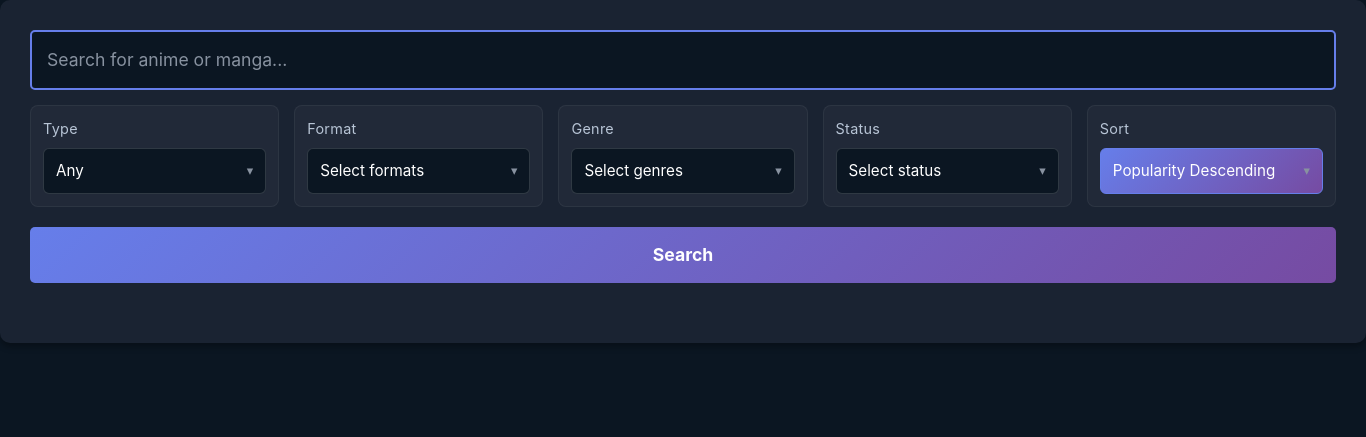
Search Component › Format Filter › opens and closes format dropdown
Click the button with test id "format-filter-button" at (419, 171), box [307, 148, 530, 194]
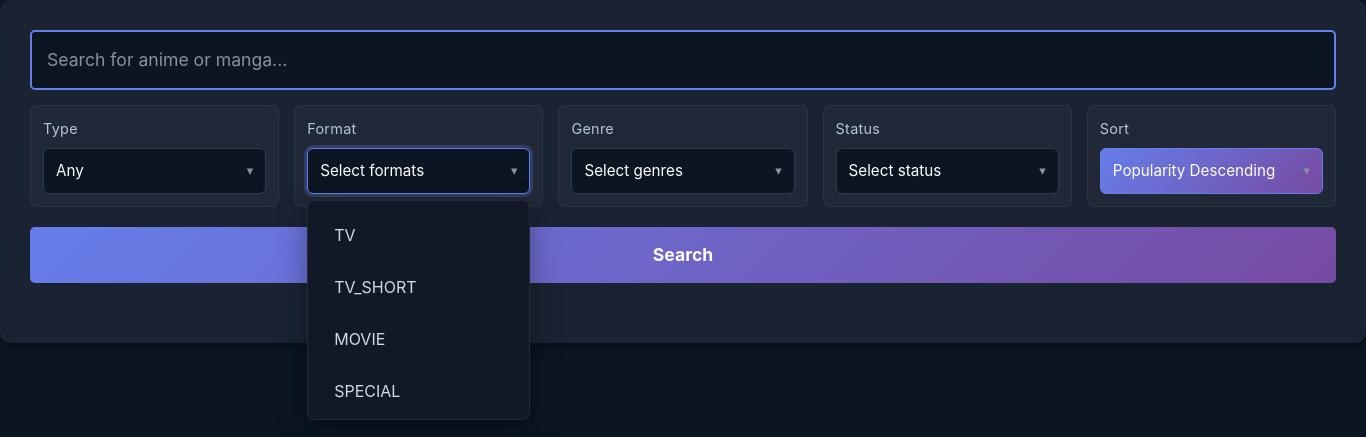
Expected: the text "TV" is shown, [334, 225, 356, 245]
Expected: the text "MOVIE" is shown, [334, 329, 385, 349]
Click the button with test id "format-filter-button" at (419, 171), box [307, 148, 530, 194]
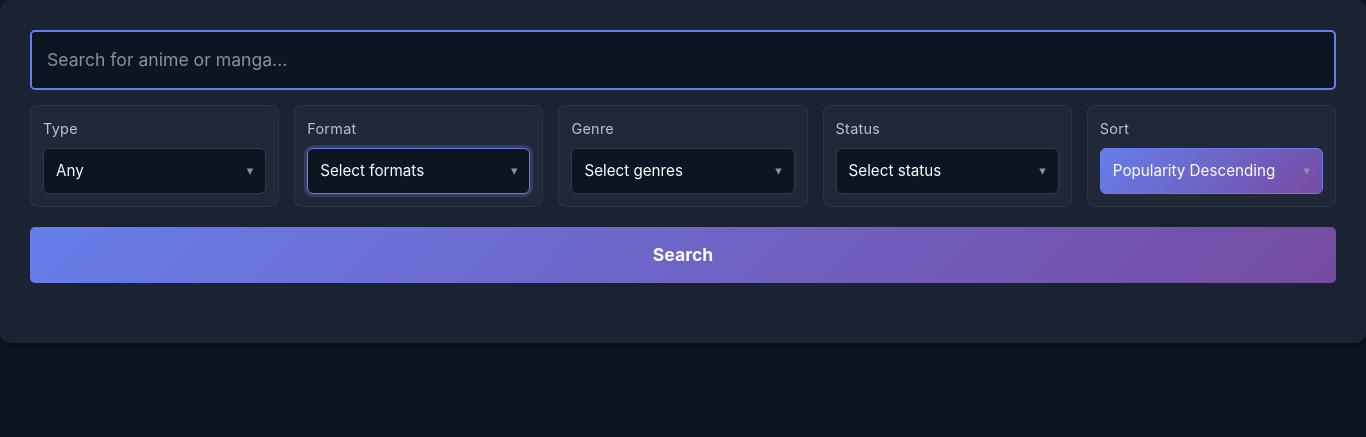
Expected: the button "TV" is gone
